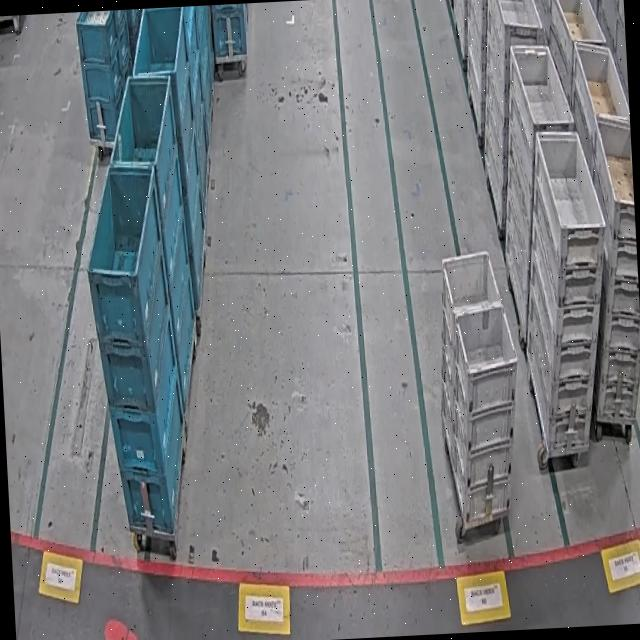6G: (514, 126, 616, 455)
8G: (436, 247, 526, 532)
B4: (80, 158, 190, 536)
B8: (76, 10, 136, 146), (213, 3, 250, 64)
